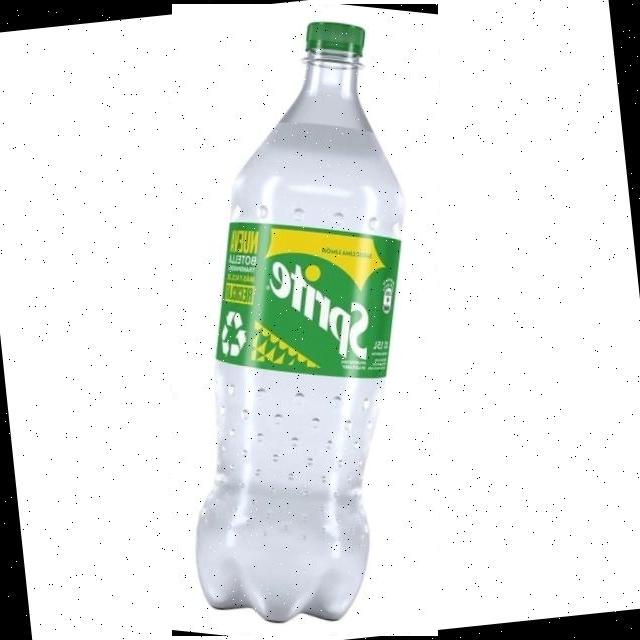sprite: (172, 4, 438, 636)
